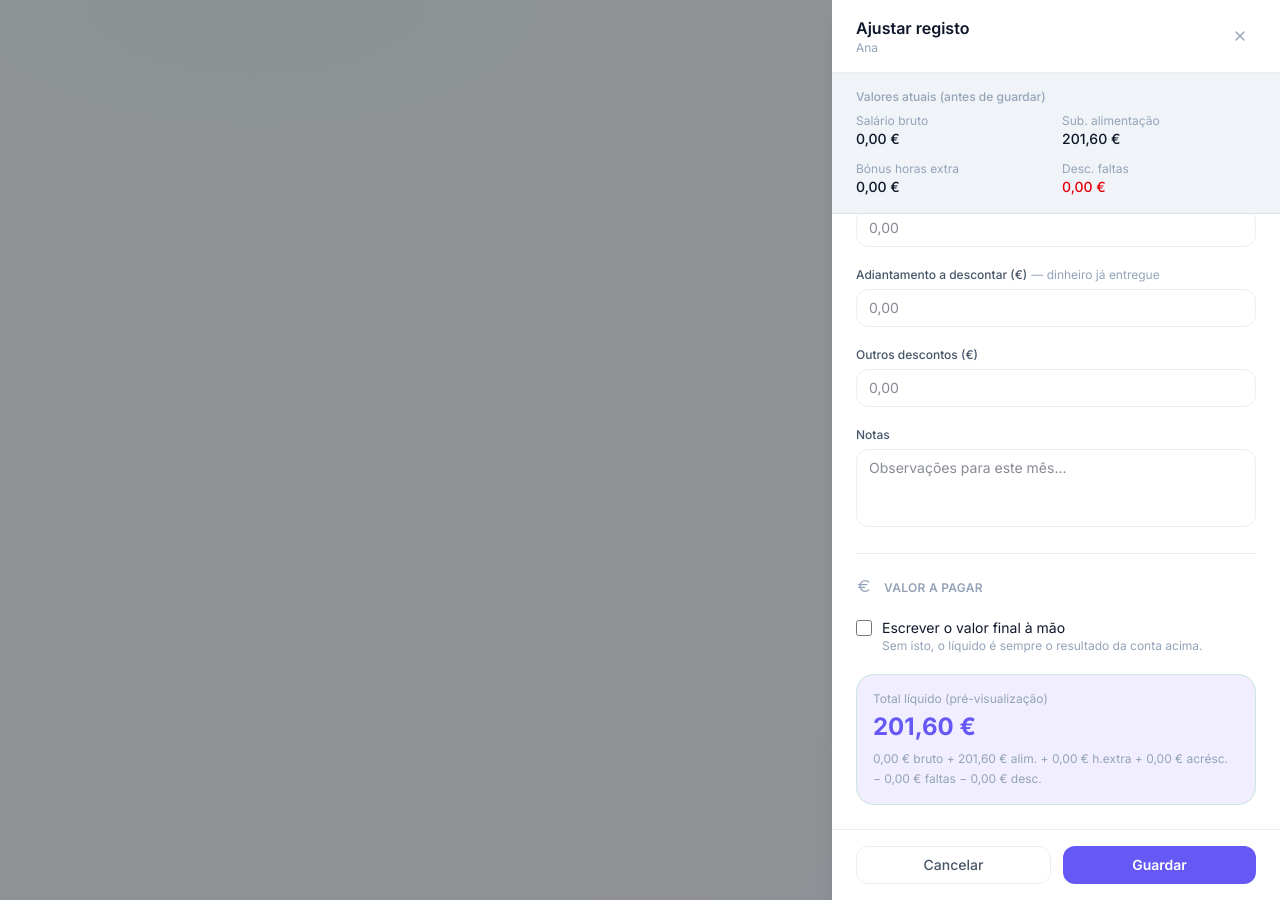
Test case: sheet de ajuste — vencimento base e líquido à mão › ligar a opção parte do valor calculado, e não de um campo vazio
(page scrolled)
Click the checkbox. click: (864, 628)
box: x1=856 y1=620 x2=872 y2=636
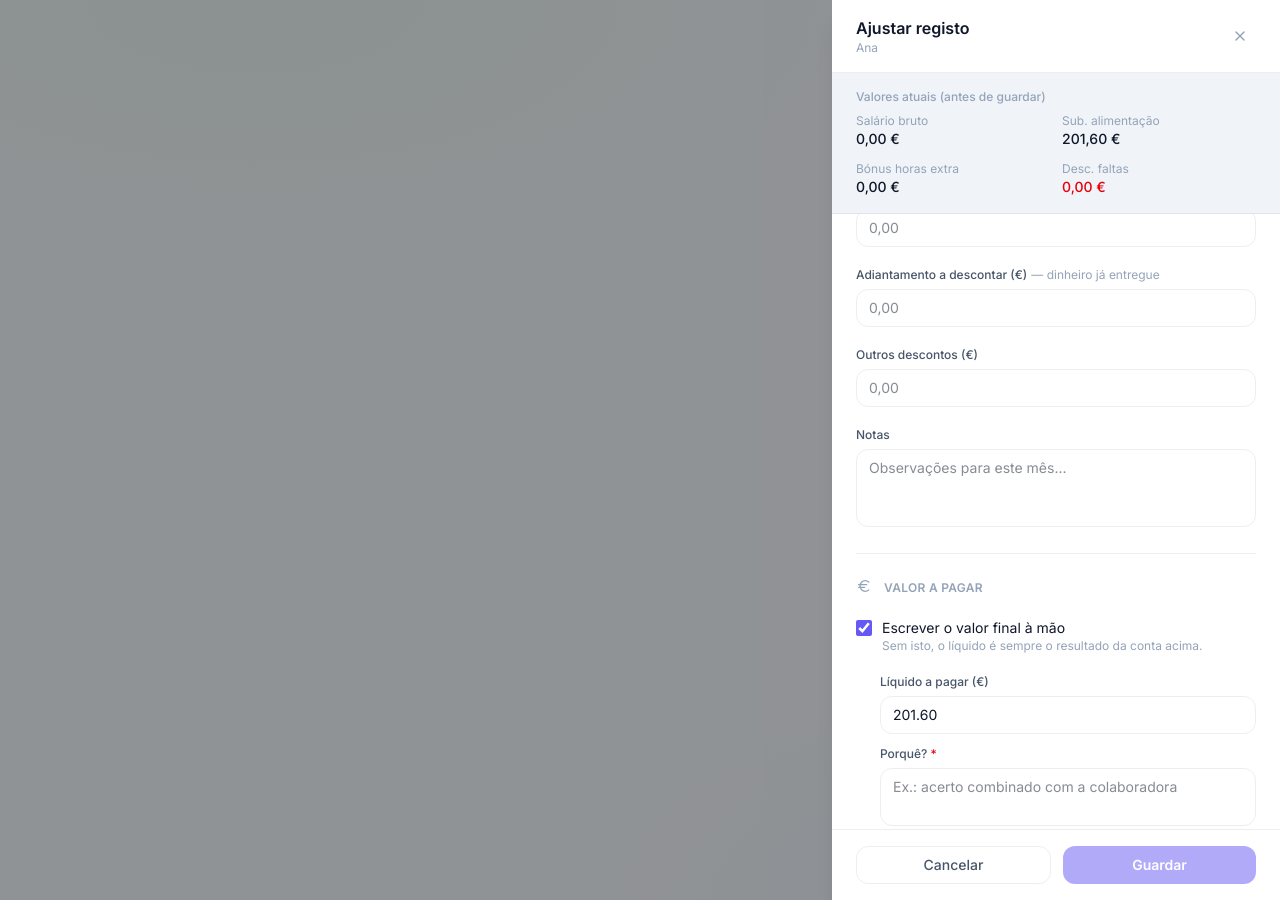
Expected: the 4th number field holds "201.60", x1=880 y1=696 x2=1256 y2=734
